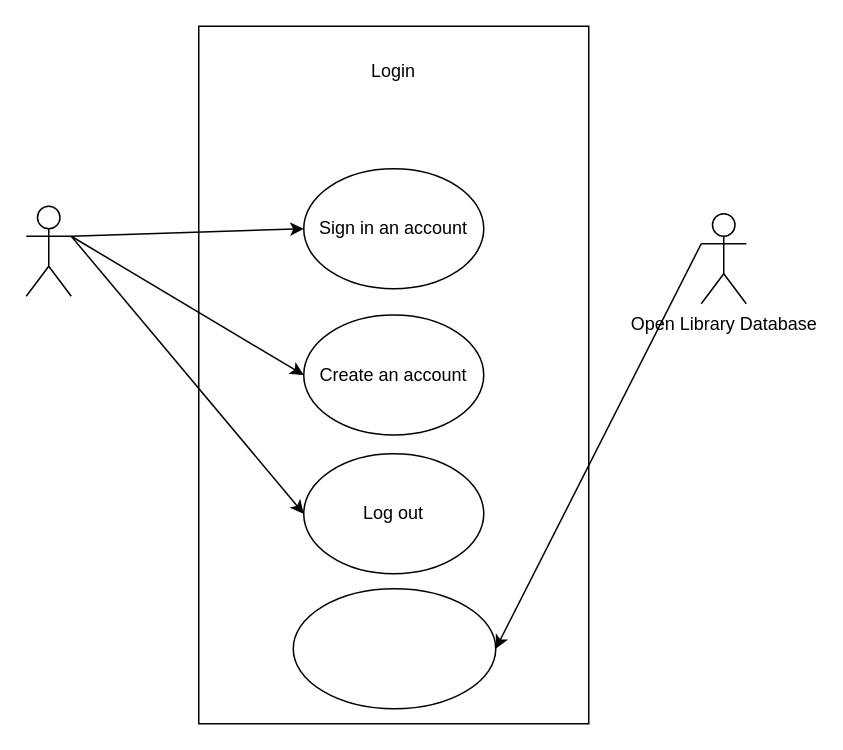
Some shapes in this 843 by 750 pixel diagram are drawn without their labels. Here are the shapes that lost their labels. From the top down, the box of each, then its label:
(25, 205, 71, 296): User
(292, 587, 496, 709): Store user information
